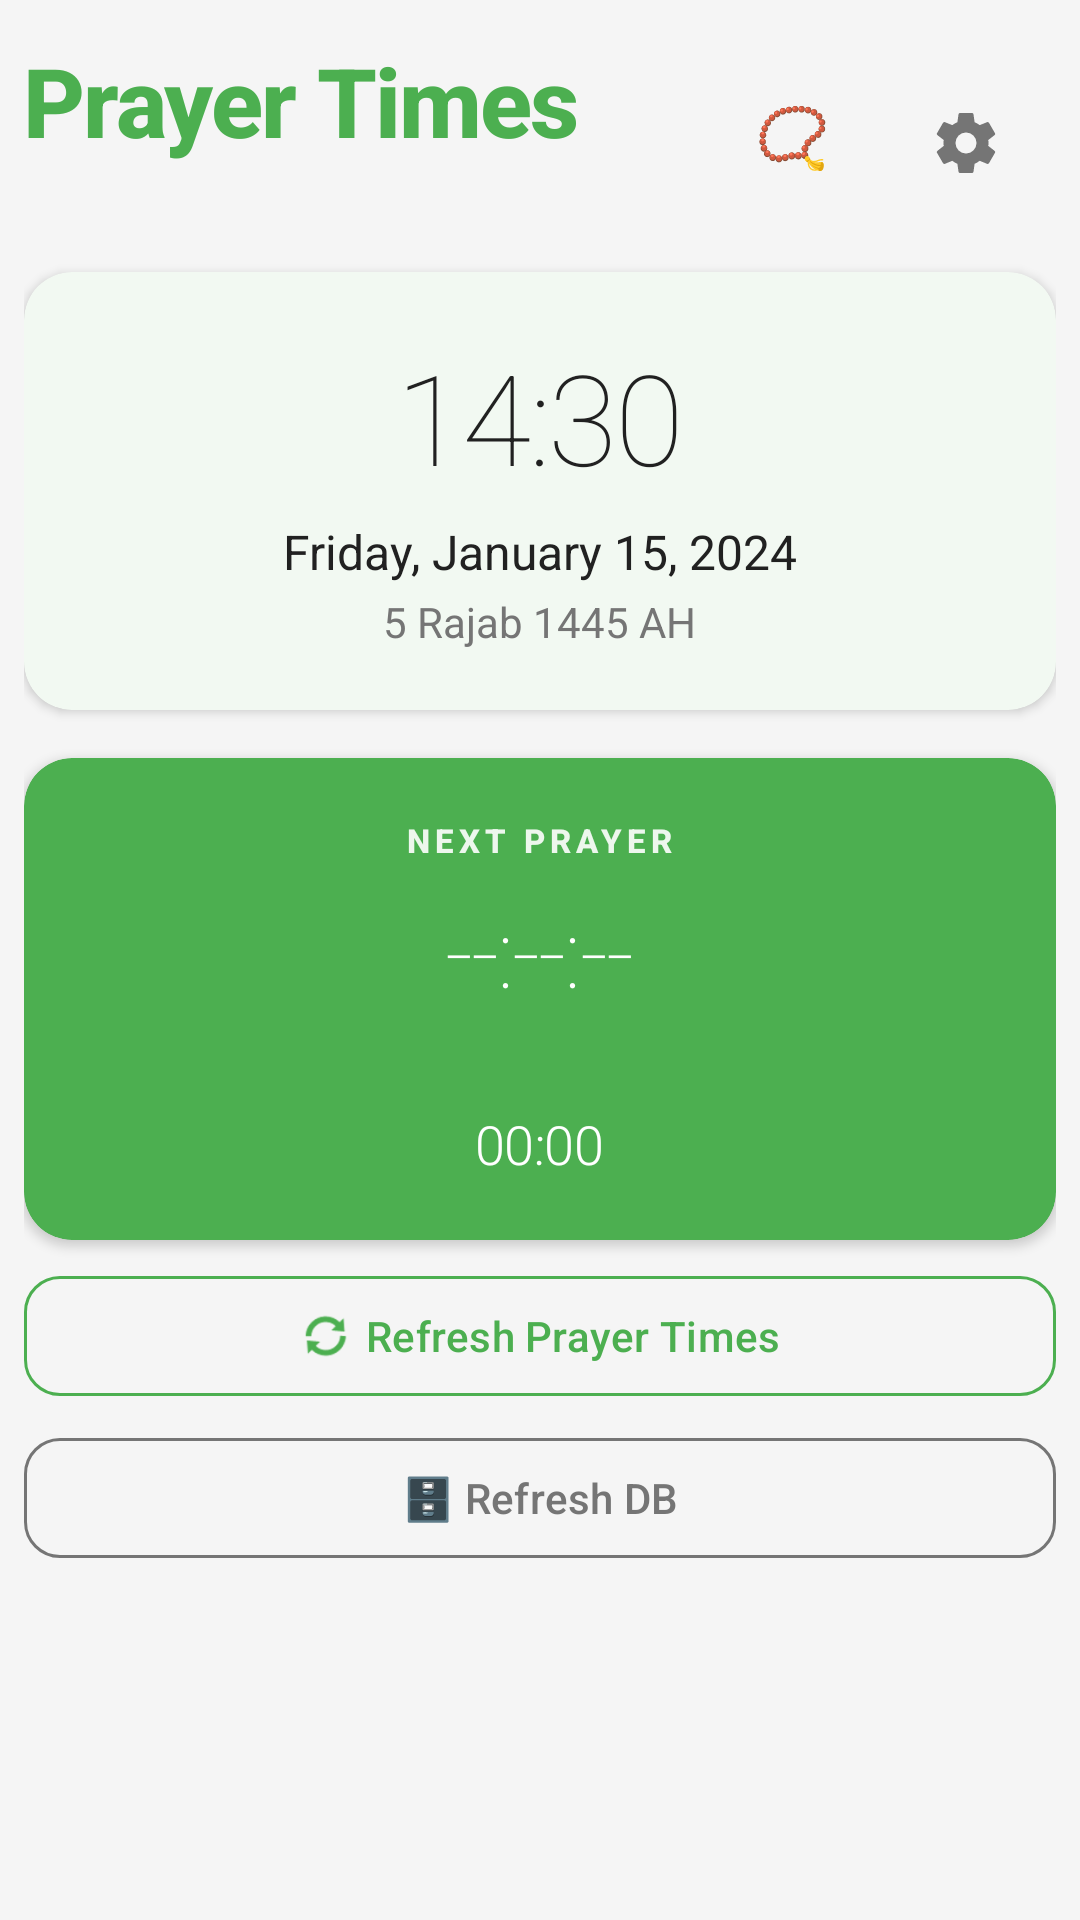

Where to tap for icons on this 1080x1920 app screen, as [x,y]:
Settings: [966,143]
